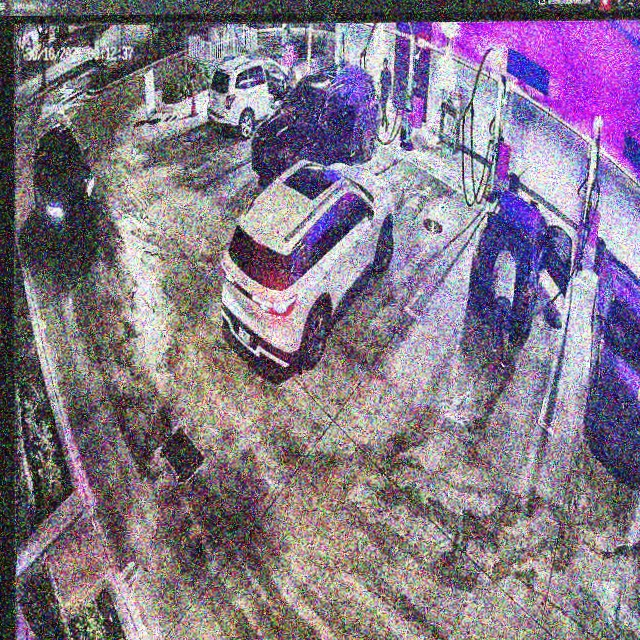Car: (218, 160, 397, 371), (253, 63, 379, 189), (469, 185, 573, 336)
